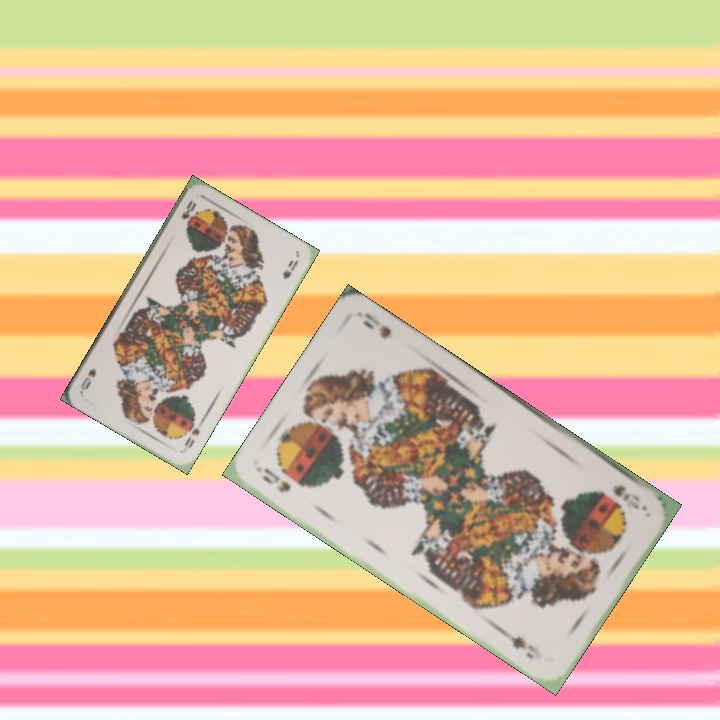SO: (258, 463, 294, 496), (608, 480, 642, 512), (177, 196, 199, 228), (180, 423, 202, 451)
